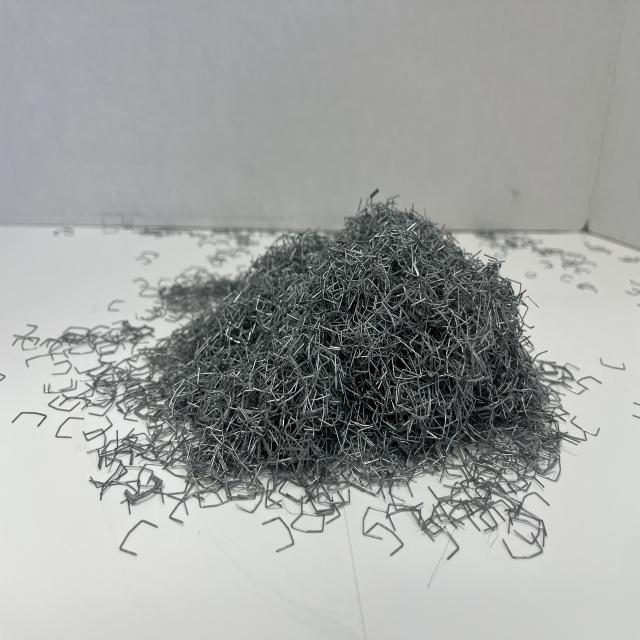staples: (148, 190, 560, 490)
